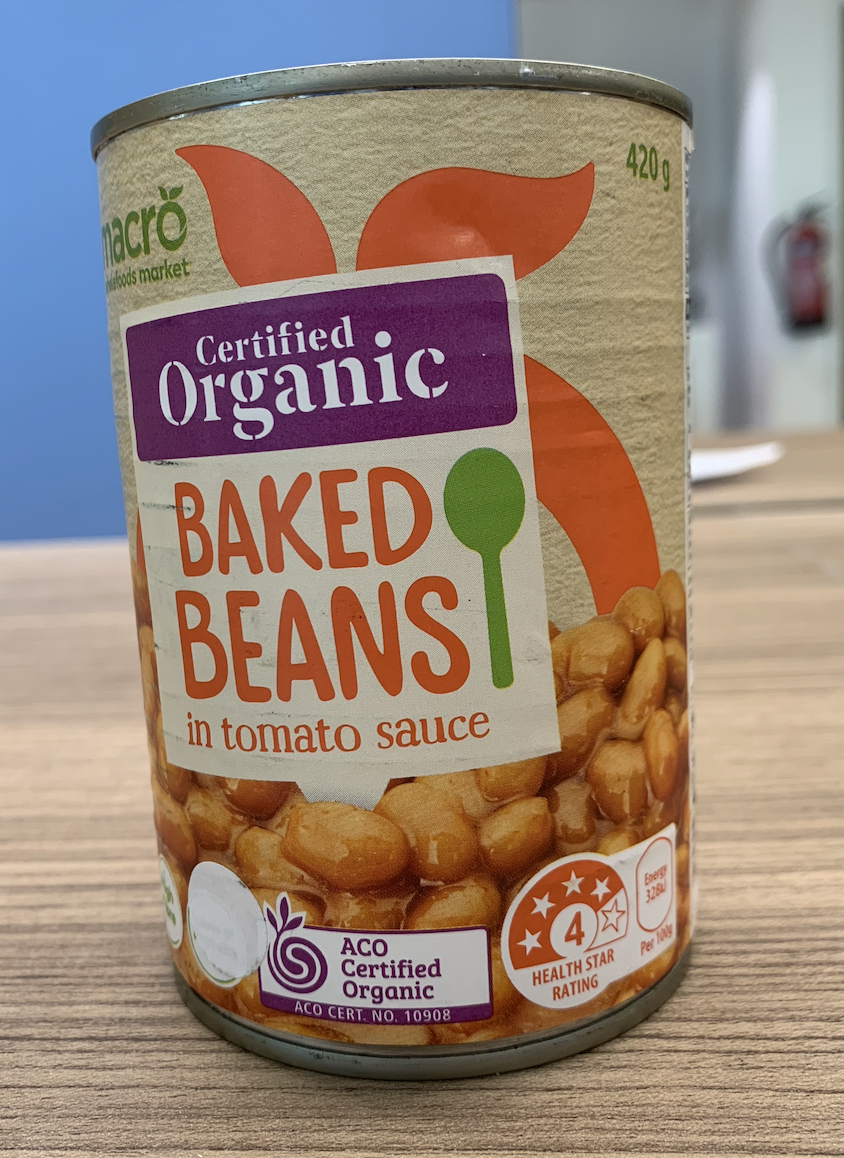Baked beans_400-499g: (141, 151, 675, 1020)
